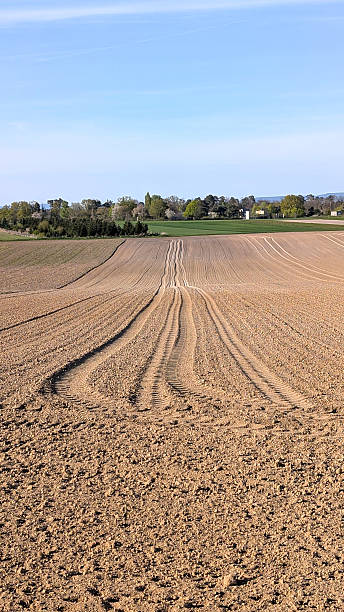vehicle_track: (50, 240, 311, 416), (49, 242, 174, 404), (197, 288, 311, 409), (136, 240, 211, 418), (0, 239, 125, 298)
